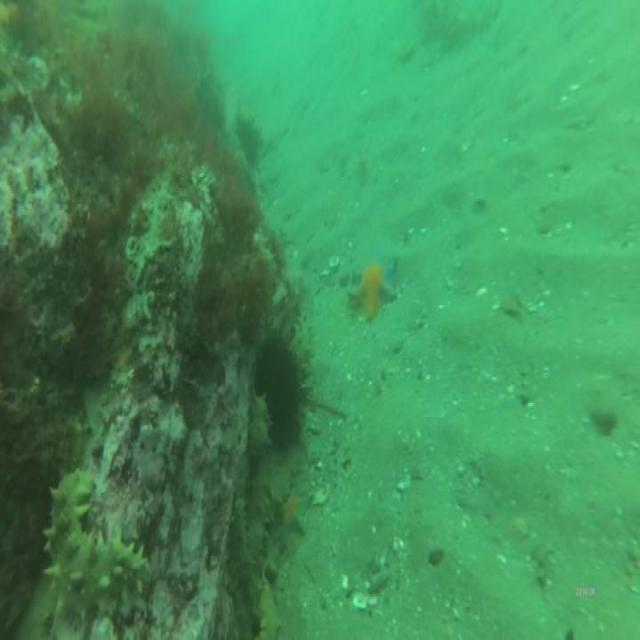echinus: (252, 324, 316, 450)
holothurian: (37, 463, 151, 618), (244, 390, 273, 463), (228, 491, 250, 547)
starfish: (345, 259, 398, 329), (276, 483, 311, 539)
